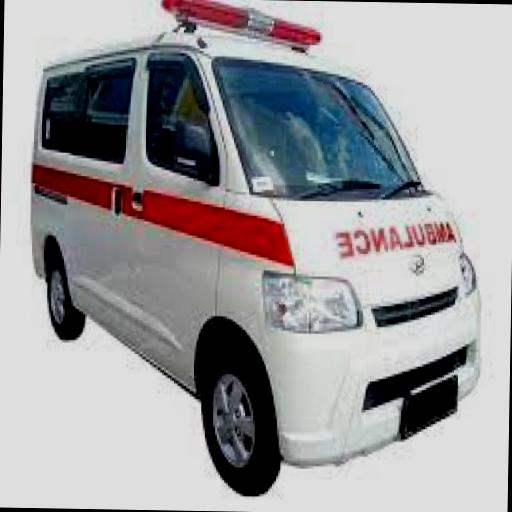Police car: (25, 0, 484, 495)
